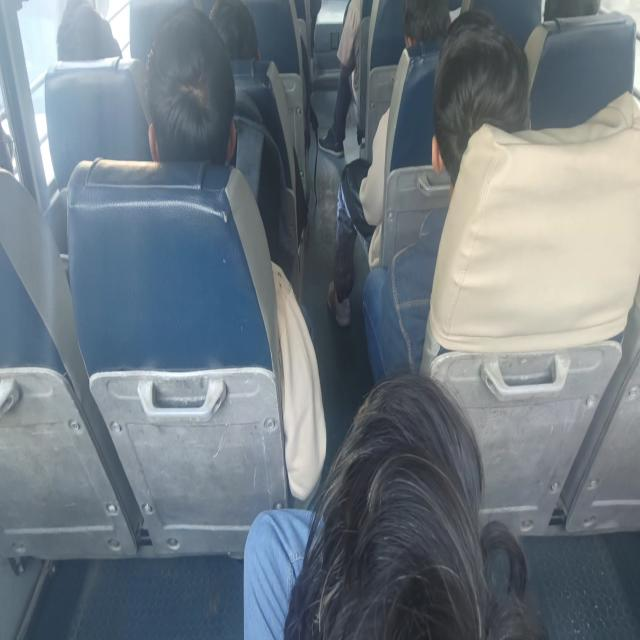person: (144, 5, 326, 502), (243, 370, 532, 638), (418, 89, 640, 374), (362, 18, 532, 384), (326, 0, 452, 327), (144, 5, 237, 165), (318, 0, 362, 158), (56, 0, 122, 62), (208, 0, 260, 61), (401, 0, 451, 49)
